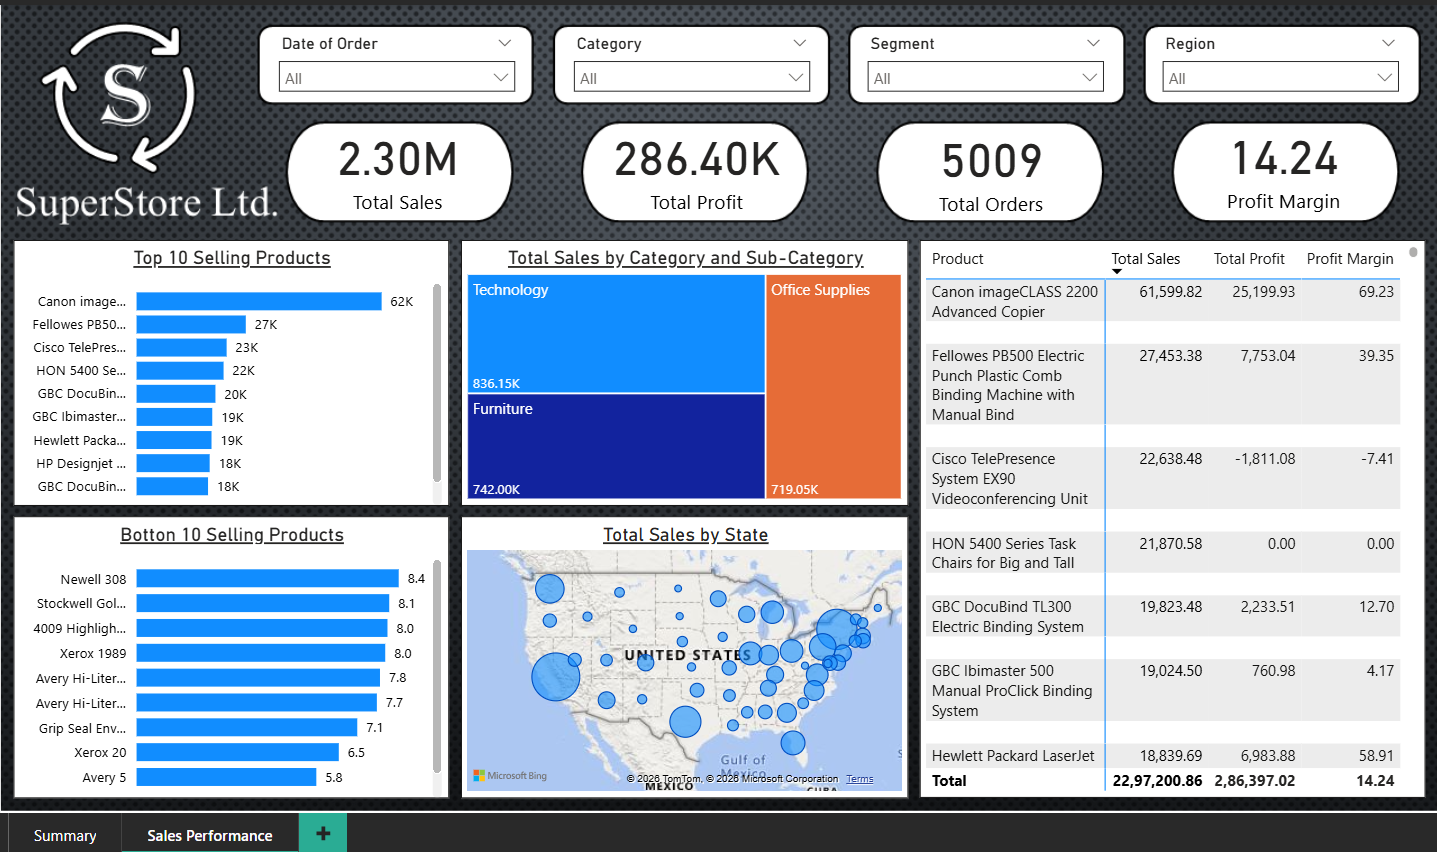

What the dashboard file says about the page in this screenshot:
{"tool":"powerbi","page":{"name":"Sales Performance","canvas":[1280,720],"ordinal":1},"visuals":[{"type":"clusteredBarChart","title":"Top 10 Selling Products","fields":{"Category":["Sample - Superstore.Product Name"],"Y":["Sum(Sample - Superstore.Sales)"]},"box":[11,209.8,387.7,236.8],"z":0},{"type":"clusteredBarChart","title":"Botton 10 Selling Products","fields":{"Category":["Sample - Superstore.Product Name"],"Y":["Sum(Sample - Superstore.Sales)"]},"box":[11,455.2,387.7,251.5],"z":1000},{"type":"map","title":"Total Sales by State","fields":{"Category":["Sample - Superstore.State"],"Size":["Sum(Sample - Superstore.Sales)"]},"box":[409.8,455.2,398.8,251.5],"z":2000},{"type":"treemap","title":"Total Sales by Category and Sub-Category","fields":{"Group":["Sample - Superstore.Category","Sample - Superstore.Sub-Category"],"Values":["Sum(Sample - Superstore.Sales)"]},"box":[409.8,209.8,398.8,236.8],"z":3000},{"type":"pivotTable","fields":{"Rows":["Sample - Superstore.Product Name"],"Values":["Sum(Sample - Superstore.Sales)","Sum(Sample - Superstore.Profit)","Measure.Profit Margin"]},"box":[818.4,209.8,450.3,496.9],"z":4000},{"type":"slicer","fields":{"Values":["Sample - Superstore.Order Date.Variation.Date Hierarchy.Year1","Sample - Superstore.Order Date.Variation.Date Hierarchy.Quarter","Sample - Superstore.Order Date.Variation.Date Hierarchy.Month","Sample - Superstore.Order Date.Variation.Date Hierarchy.Day"]},"box":[236.8,20.9,230.7,61.4],"z":5000},{"type":"card","fields":{"Values":["Measure.Total Sales"]},"box":[233.1,88.3,241.7,111.7],"z":6000},{"type":"card","fields":{"Values":["Measure.Profit Margin"]},"box":[1007.4,87.1,269.9,111.7],"z":7000},{"type":"card","fields":{"Values":["Measure.Total Orders"]},"box":[728.8,89.6,305.5,111.7],"z":8000},{"type":"card","fields":{"Values":["Measure.Total Profit"]},"box":[466.3,87.1,306.8,112.9],"z":9000},{"type":"slicer","fields":{"Values":["Sample - Superstore.Category"]},"box":[499.4,20.9,230.7,61.4],"z":10000},{"type":"slicer","fields":{"Values":["Sample - Superstore.Segment"]},"box":[762,20.9,230.7,61.4],"z":11000},{"type":"slicer","fields":{"Values":["Sample - Superstore.Region"]},"box":[1024.5,20.9,230.7,61.4],"z":12000}]}

Visuals, with their boxes on the page's 1280x720 design canvas (x1, y1, x2, y2). These are canvas units, not pixel positions in the 1437x852 screenshot, which may show the page scaled, cropped or inside an application window:
"Top 10 Selling Products" clusteredBarChart: select_region(11, 210, 399, 447)
"Botton 10 Selling Products" clusteredBarChart: select_region(11, 455, 399, 707)
"Total Sales by State" map: select_region(410, 455, 809, 707)
"Total Sales by Category and Sub-Category" treemap: select_region(410, 210, 809, 447)
pivotTable - Sample - Superstore.Product Name x Sum(Sample - Superstore.Sales): select_region(818, 210, 1269, 707)
slicer - Sample - Superstore.Order Date.Variation.Date Hierarchy.Year1 x Sample - Superstore.Order Date.Variation.Date Hierarchy.Quarter: select_region(237, 21, 468, 82)
card - Measure.Total Sales: select_region(233, 88, 475, 200)
card - Measure.Profit Margin: select_region(1007, 87, 1277, 199)
card - Measure.Total Orders: select_region(729, 90, 1034, 201)
card - Measure.Total Profit: select_region(466, 87, 773, 200)
slicer - Sample - Superstore.Category: select_region(499, 21, 730, 82)
slicer - Sample - Superstore.Segment: select_region(762, 21, 993, 82)
slicer - Sample - Superstore.Region: select_region(1024, 21, 1255, 82)
